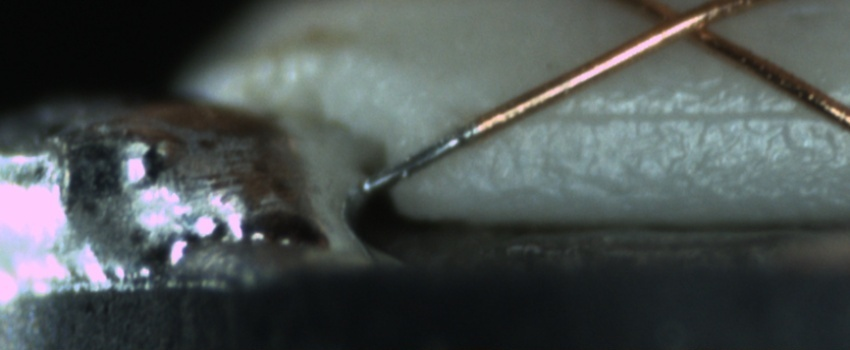CL: (632, 1, 732, 54)
DL: (497, 84, 849, 148)
TS: (360, 124, 481, 194)
TTCW: (363, 113, 498, 195)
